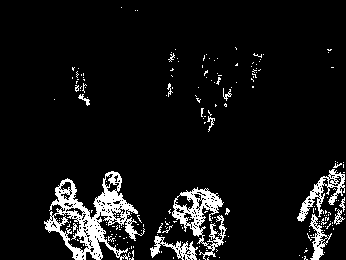person: (89, 169, 145, 260), (42, 178, 102, 260)
